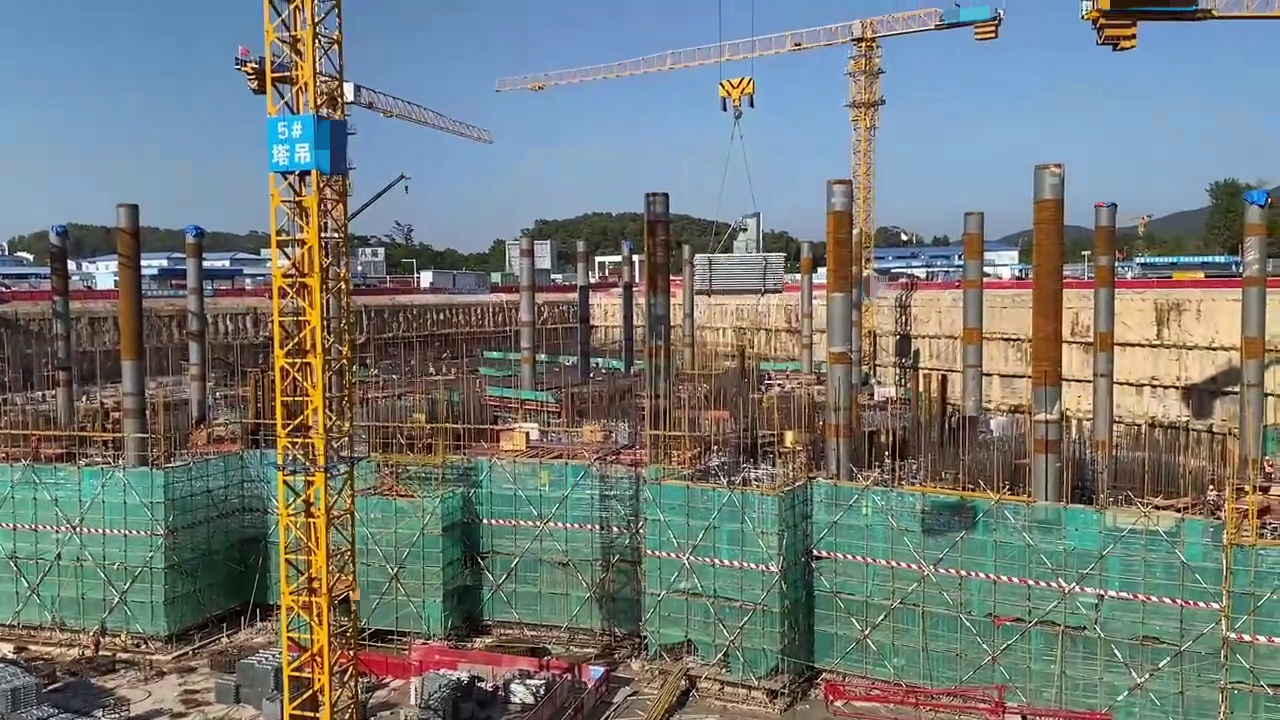fence: (406, 646, 555, 678), (358, 648, 408, 677)
hook: (716, 77, 756, 107)
scaffold: (3, 664, 90, 720), (695, 250, 784, 292), (229, 650, 284, 707)
